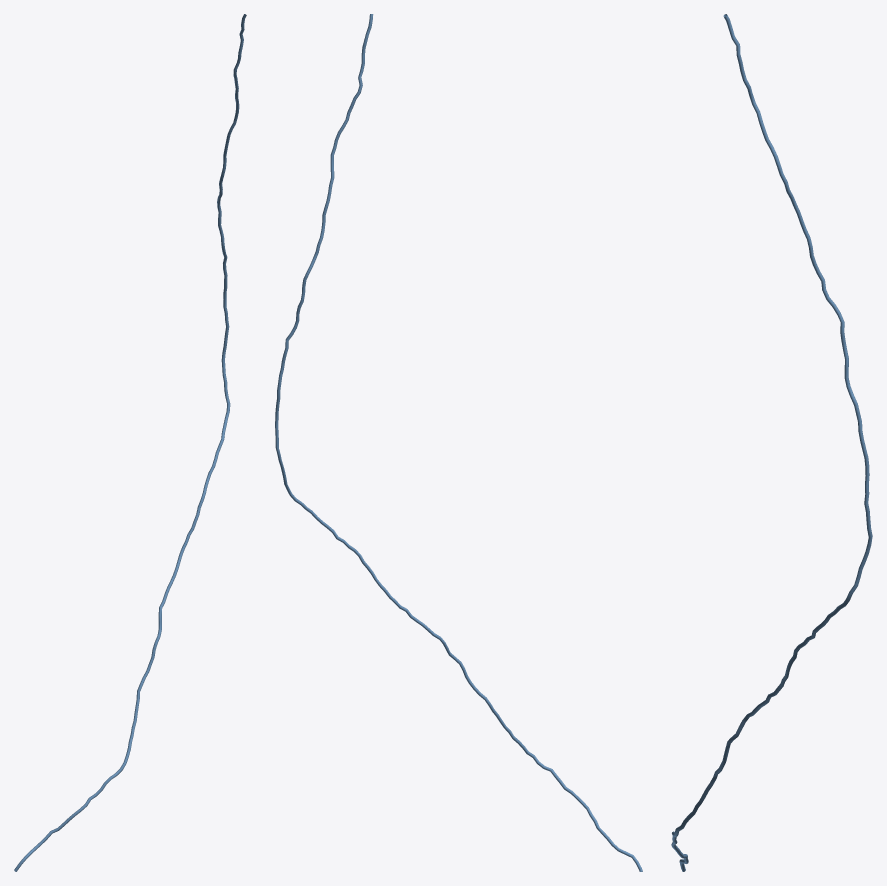
File: sweep111.fbx
3 renders of one model, left to right at view 1: azimuth 30°, elevation 25°; view 2: azimuth 150°, elevation 25°; view 3: azimuth 270°, elevation 25°, orthographic. The views are drawn at different scales.
Visible parts, largest first — view 1: sweep111; view 2: sweep111; view 3: sweep111.
Part boxes in pixels (left/top/right/bottom): sweep111: left=14, top=14, right=246, bottom=871; sweep111: left=275, top=14, right=642, bottom=871; sweep111: left=671, top=14, right=872, bottom=871.
Bounding box in the file's own units: 2.02 × 5.32 × 0.959.
